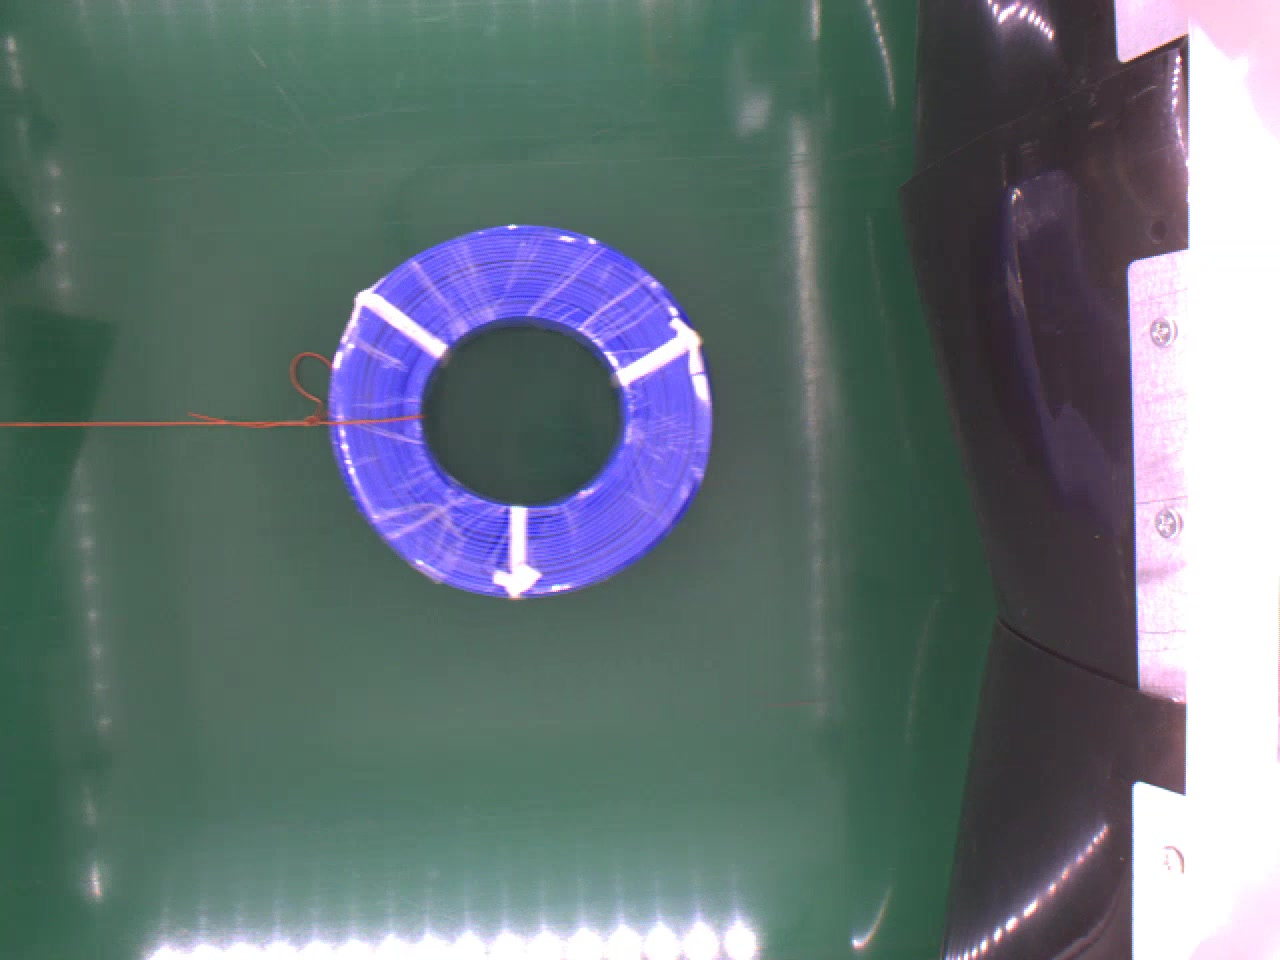blue: (324, 218, 715, 596)
